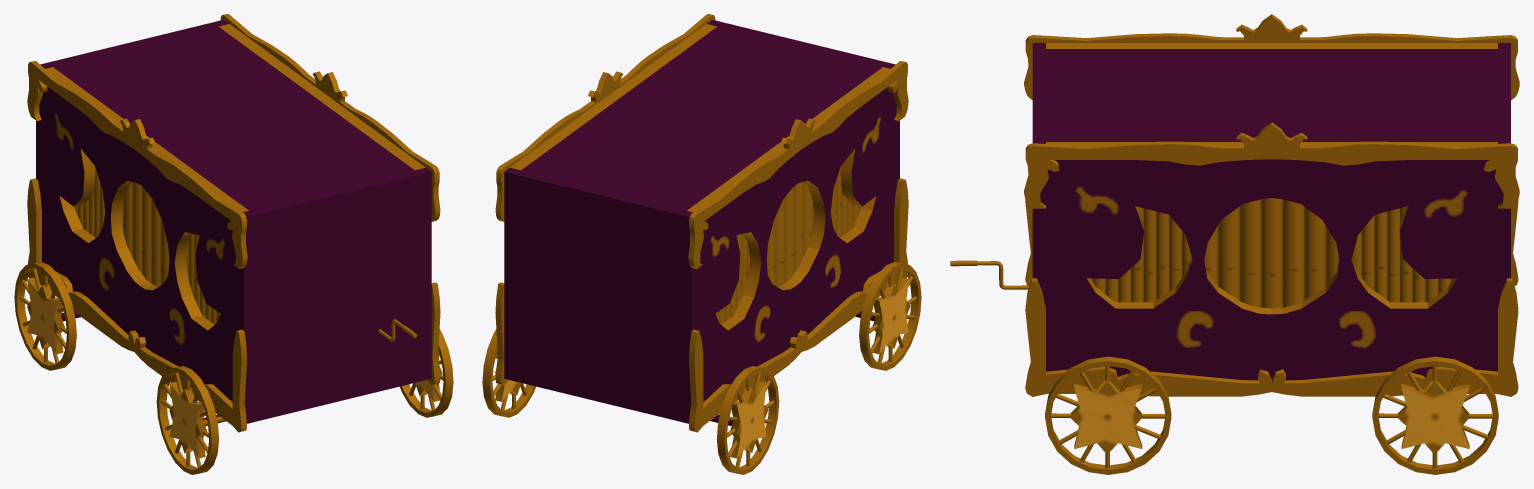
The model's file is Calliope.fbx.
The picture shows the model from 3 angles, left to right: view 1: azimuth 30°, elevation 25°; view 2: azimuth 150°, elevation 25°; view 3: azimuth 270°, elevation 25°; orthographic projection. The views are drawn at different scales.
Parts seen in each view (by area): view 1: pCube3; view 2: pCube3; view 3: pCube3.
Part boxes in pixels (x1,y1,x2,y2): pCube3: [14, 14, 453, 474]; pCube3: [482, 14, 921, 474]; pCube3: [950, 14, 1519, 474].
Size of the model in its own units: 3.98 by 4.6 by 7.03.
